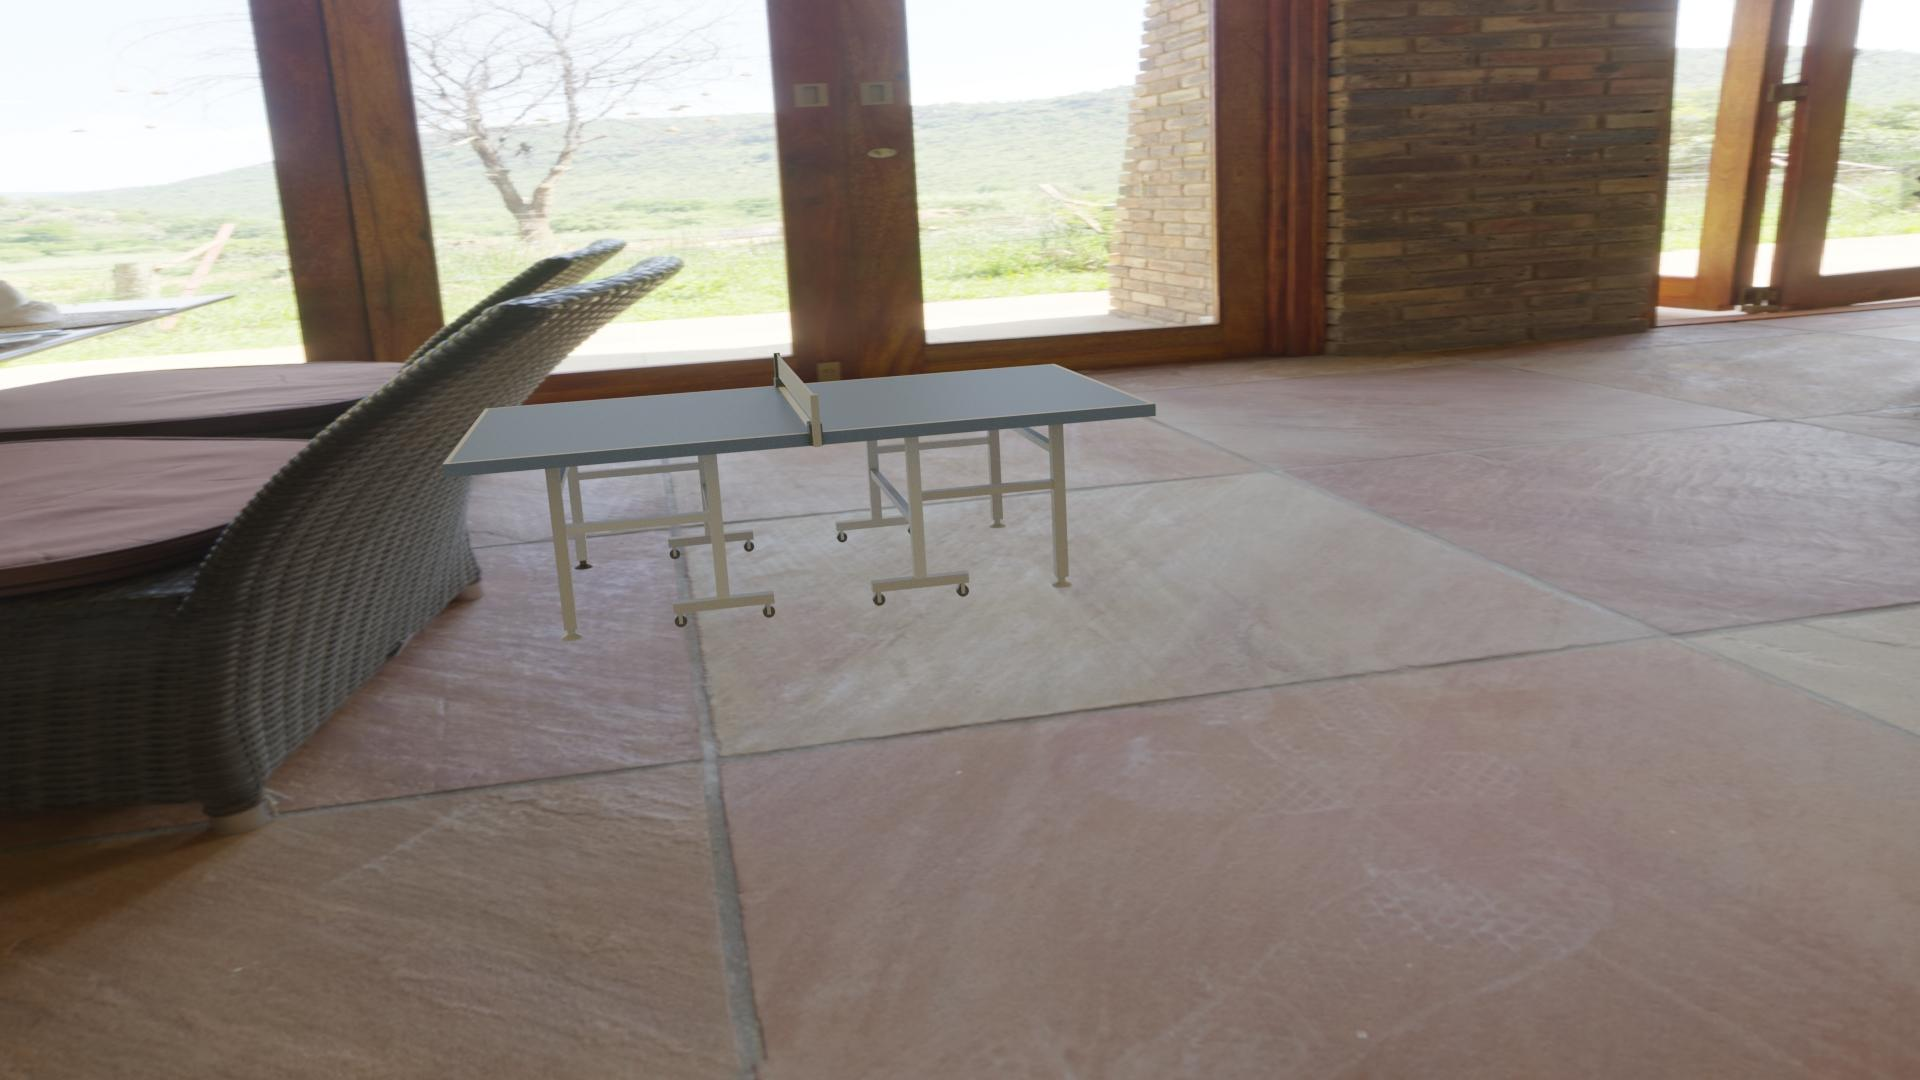table: (448, 365, 1150, 463)
